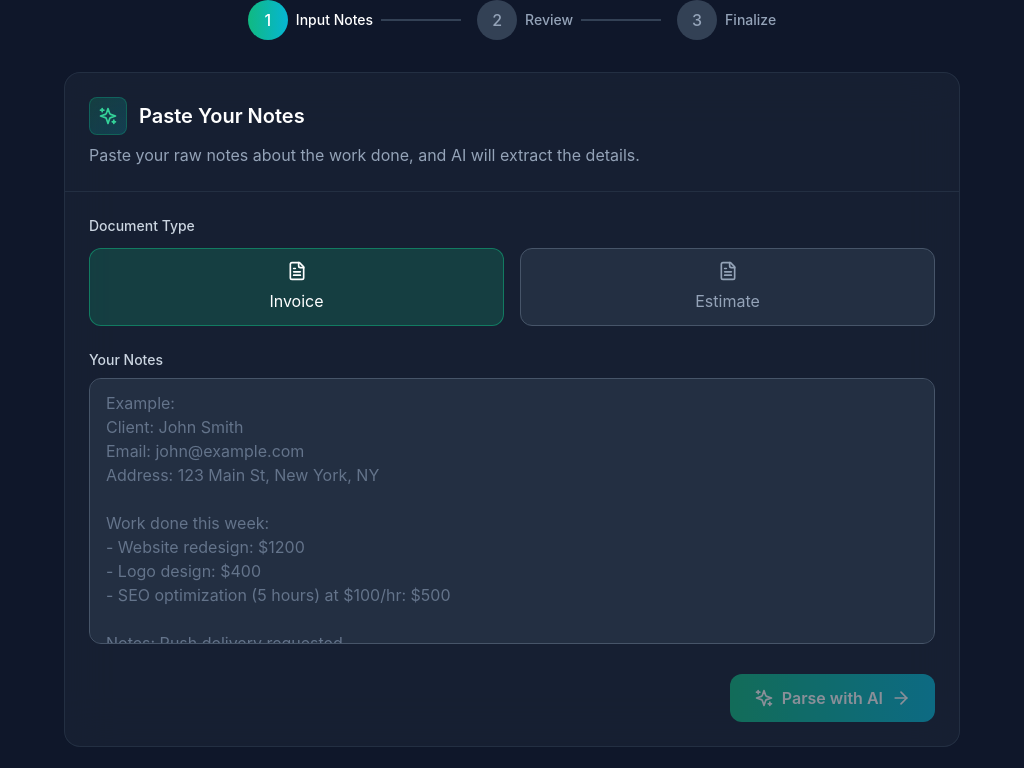
Test case: Full invoice creation happy path › recalculates item total and subtotal when quantity is changed
Replace the text in the text box with placeholder "Example:" with "Design work for Acme Corp" at [512, 511], box [89,378,935,644]
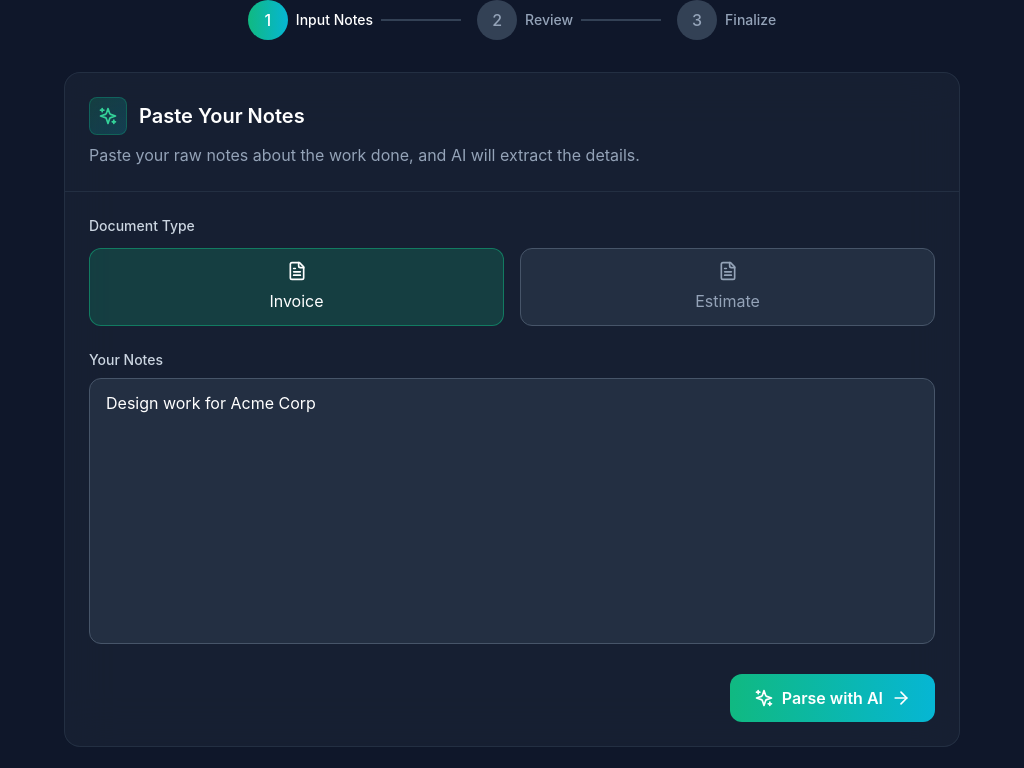
Click the button "Parse with AI" at [832, 698], box [730,674,935,722]
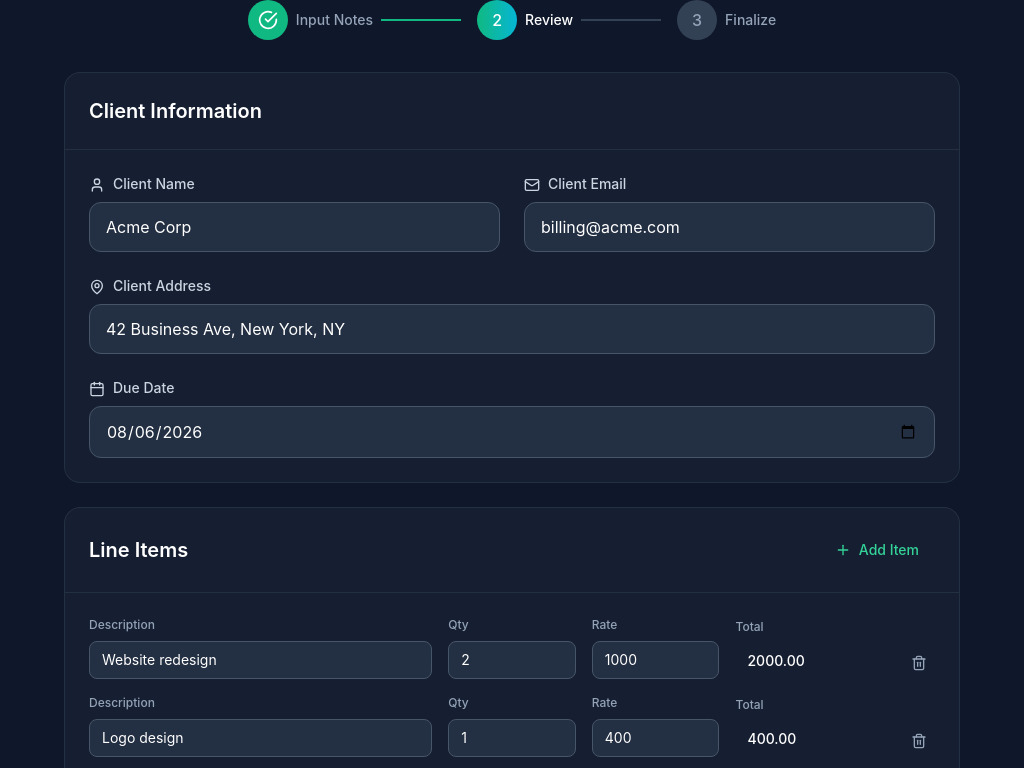
Now the heading "Client Information" is shown, box [89,99,262,123]
Replace the text in the 1st number field showing "2" with "3" at [512, 660], box [448,641,576,679]
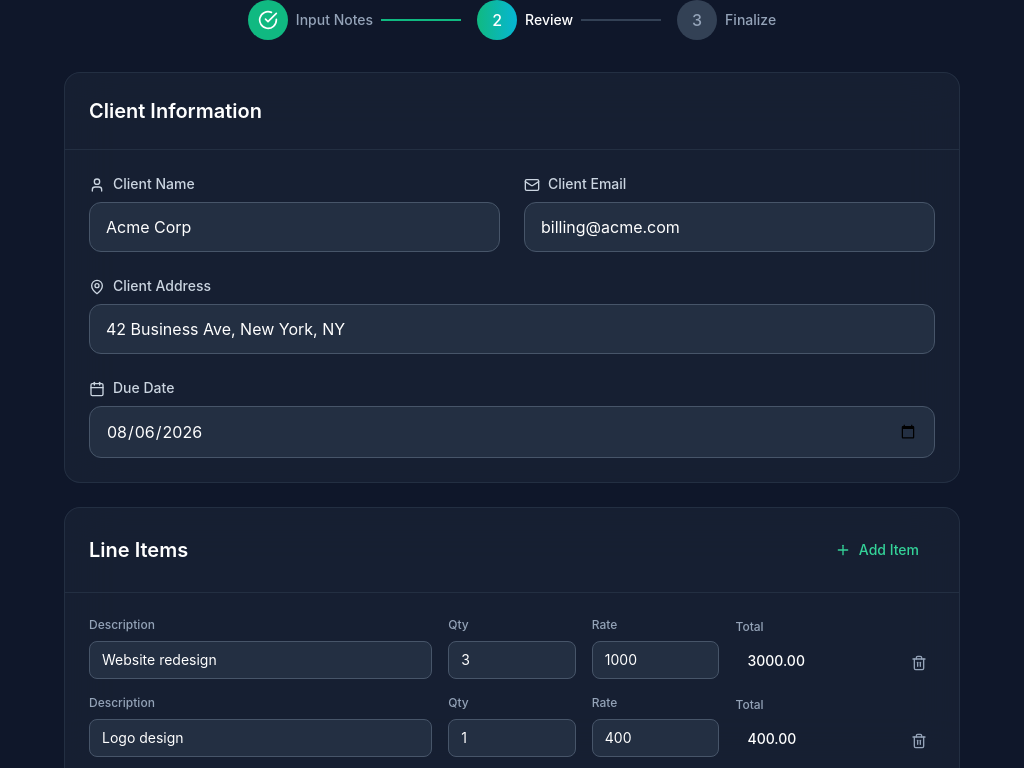
Now the text "3000.00" is shown, box [748,652,805,669]
